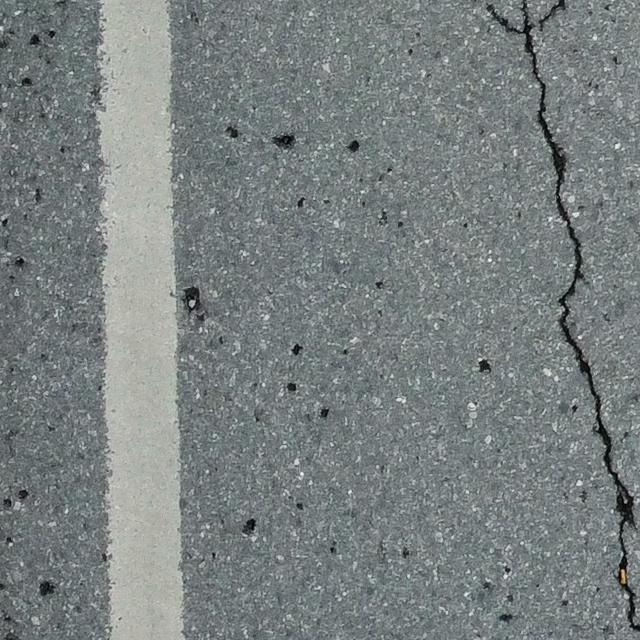LongitudinalCrack: (492, 1, 640, 629)
